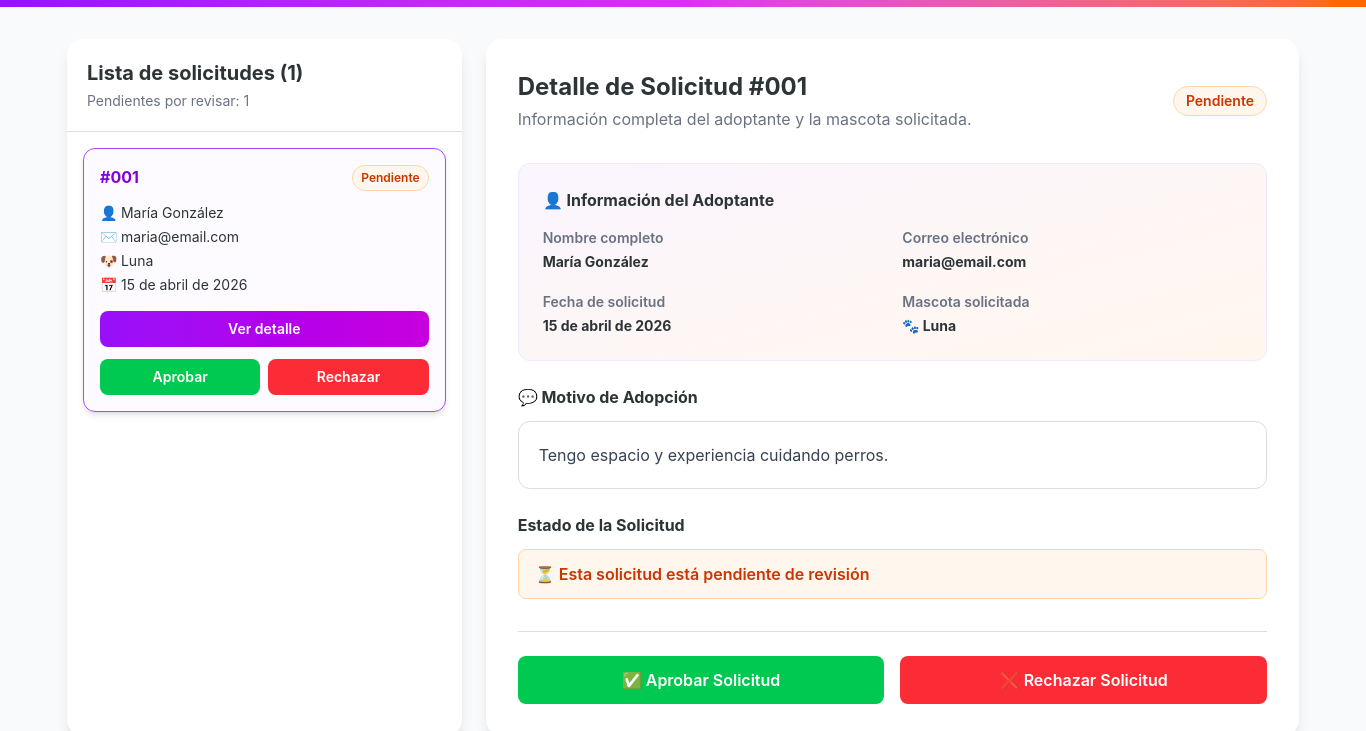
Test case: ManageAdoptionRequestsScreen › rejects a pending adoption request
(page scrolled)
Expected: the heading "Detalle de Solicitud #001" is shown, 518,72 -> 807,101
Click the button "❌ Rechazar Solicitud": [1084, 680] box 900,656 -> 1267,704
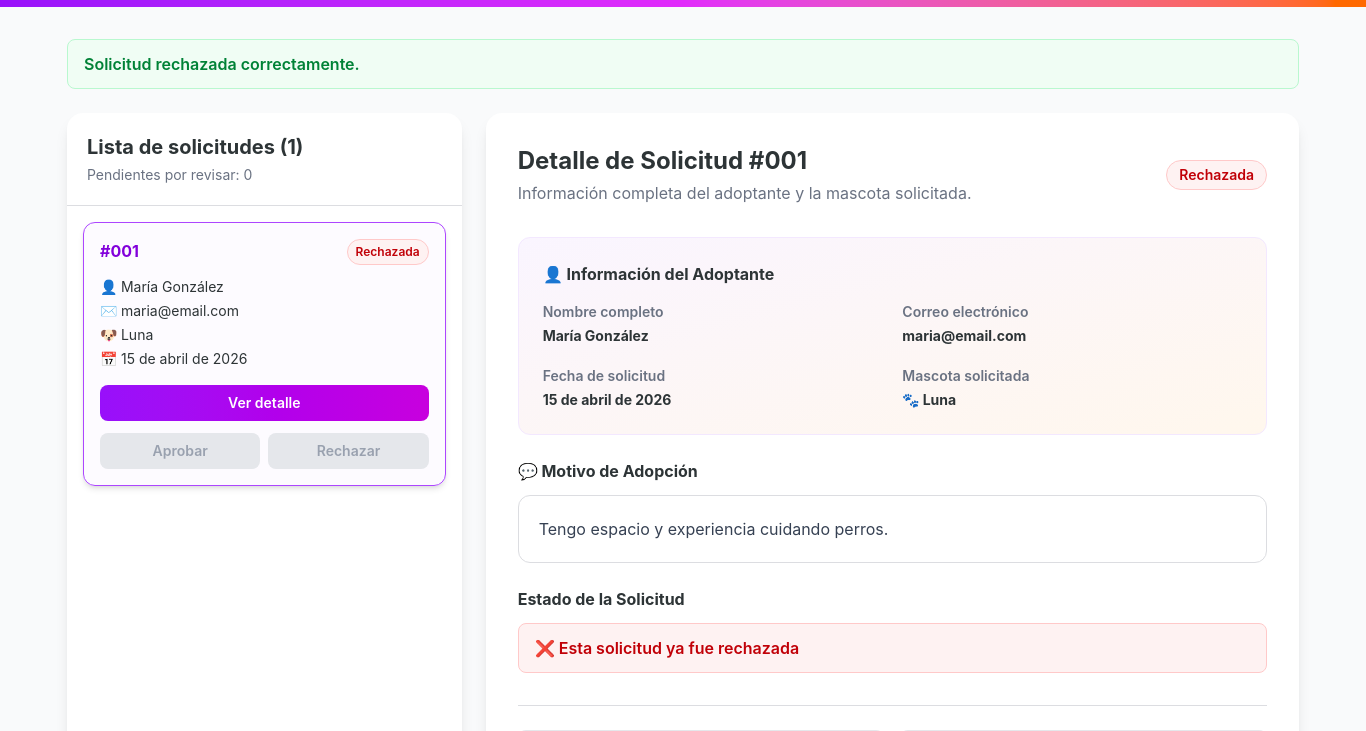
Expected: the text "Solicitud rechazada correctamente." is shown, 67,39 -> 1299,89
